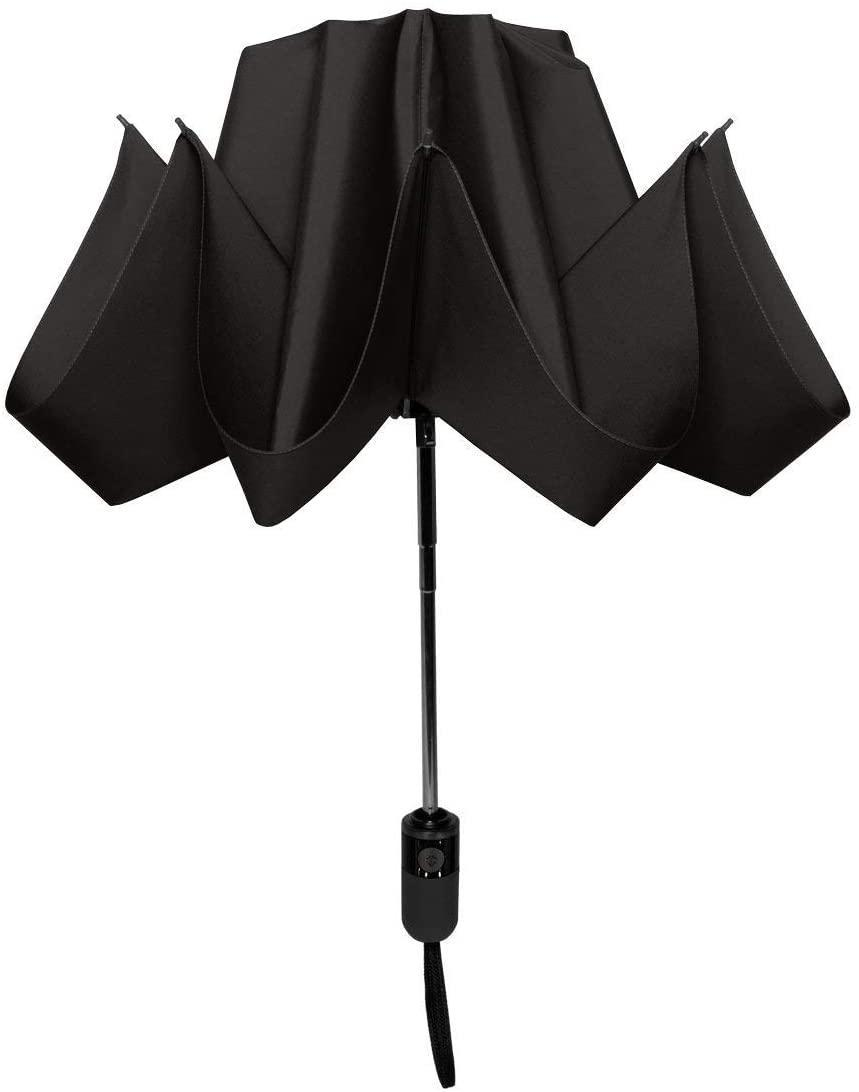Umbrella: (21, 13, 859, 1092)
